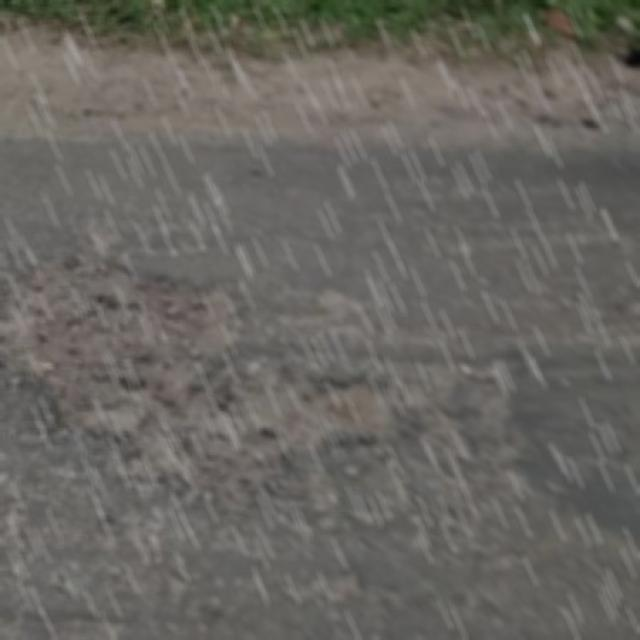road-pothole: (0, 234, 507, 519)
